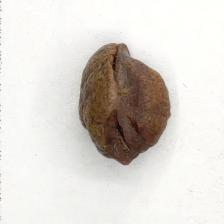NG: (108, 43, 171, 165)
